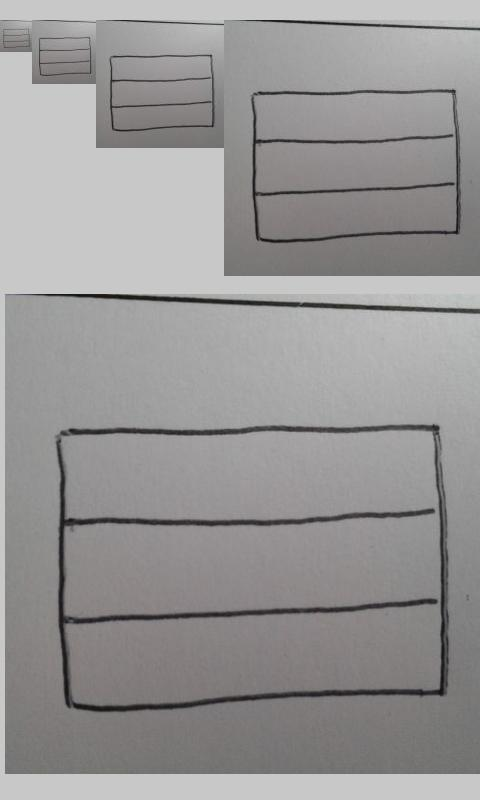list_view: (52, 422, 453, 714), (251, 88, 462, 243), (109, 54, 215, 132), (38, 37, 92, 76), (2, 28, 31, 49)
